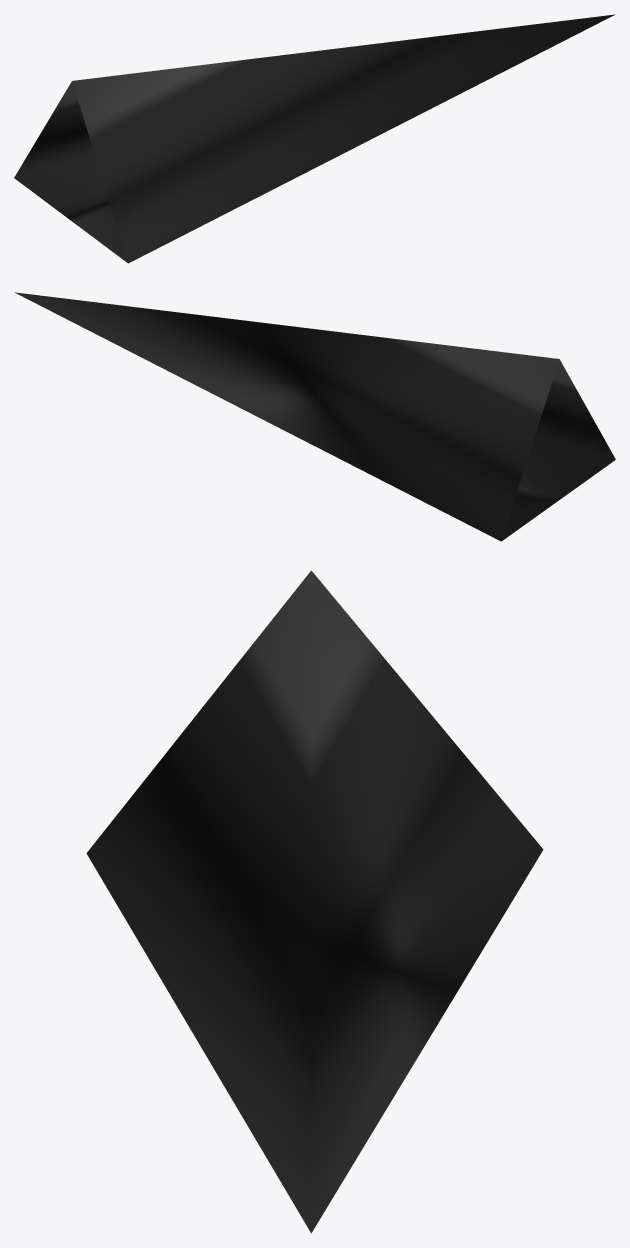
Rendered from shaft_std_LRe_lod.dae.
The picture shows the model from 3 angles, top to bottom: view 1: azimuth 30°, elevation 25°; view 2: azimuth 150°, elevation 25°; view 3: azimuth 270°, elevation 25°; orthographic projection. The views are drawn at different scales.
Parts seen in each view (by area): view 1: _0_0_node; view 2: _0_0_node; view 3: _0_0_node.
Boxes of the visible parts, bbox=[...] form: _0_0_node: bbox=[14, 14, 615, 263]; _0_0_node: bbox=[14, 292, 615, 541]; _0_0_node: bbox=[86, 570, 543, 1233].
Bounding box in the file's own units: 5.06 × 1.26 × 1.84.
1 material, 1 textured.
